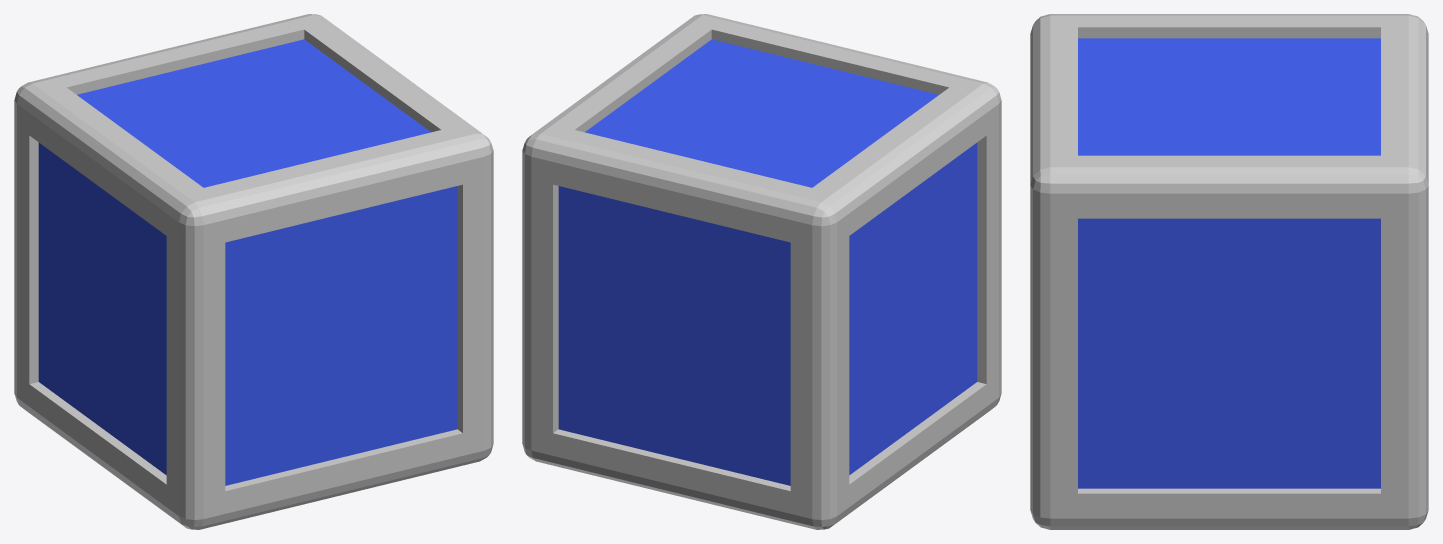
File: PickupDrumBomb.fbx
The picture shows the model from 3 angles, left to right: view 1: azimuth 30°, elevation 25°; view 2: azimuth 150°, elevation 25°; view 3: azimuth 270°, elevation 25°; orthographic projection. The views are drawn at different scales.
Parts seen in each view (by area): view 1: Cube; view 2: Cube; view 3: Cube.
Part boxes in pixels (x1,y1,x2,y2): Cube: (14, 14, 493, 529); Cube: (522, 14, 1001, 529); Cube: (1030, 14, 1428, 529).
Size of the model in its own units: 1.5 by 1.5 by 1.5.
